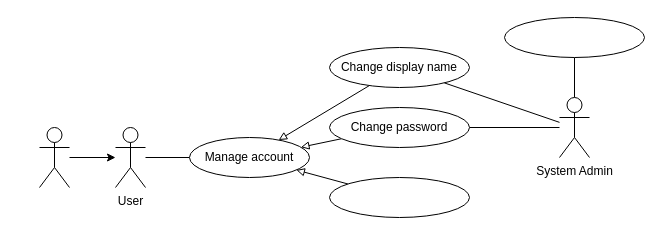
Some shapes in this 662 by 235 pixel diagram are drawn without their labels. The shapes that lost their labels are listed below. From the top down, each one's box as (x1, y1, x2, y2) in pixels, then its label:
(504, 16, 644, 58): Change email
(38, 126, 70, 188): Project Admin
(328, 176, 470, 218): Delete account
